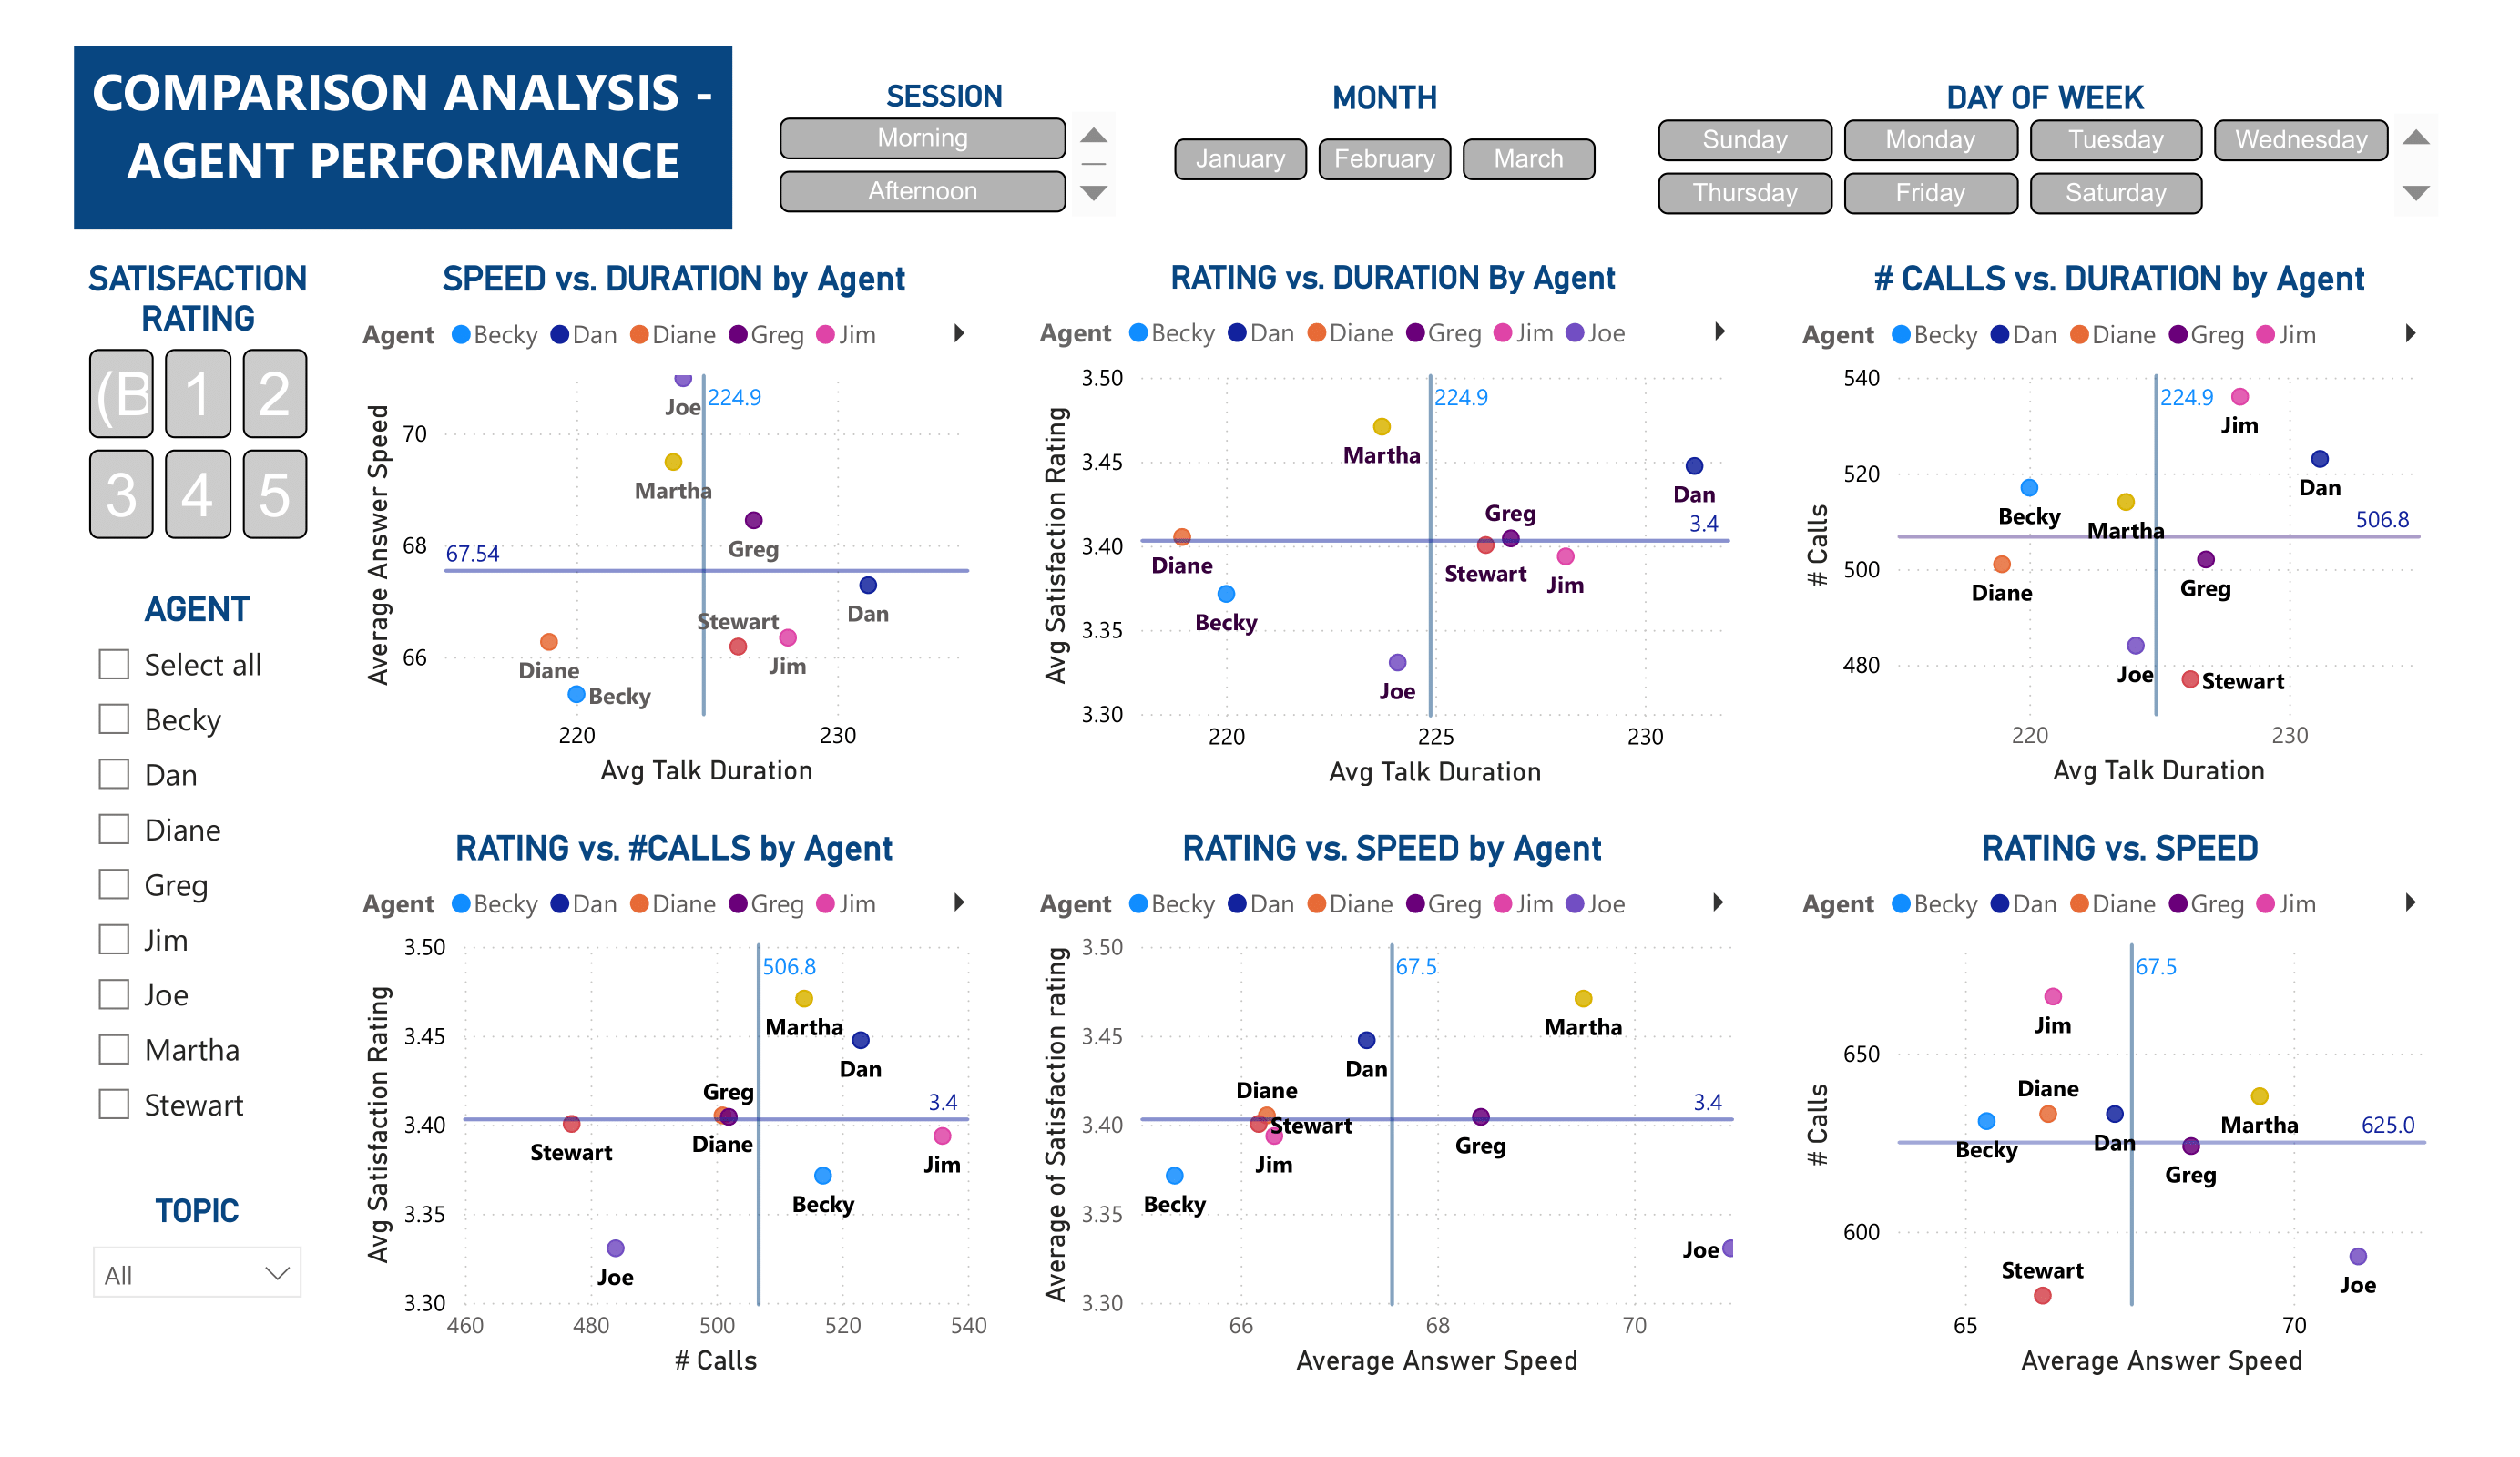

This screenshot's page, from the dashboard's own definition file:
{"tool":"powerbi","page":{"name":"Diagnostic Analysis_Scatter","canvas":[1280,720],"ordinal":5},"visuals":[{"type":"scatterChart","title":"SPEED vs. DURATION by Agent","fields":{"X":["Avg(Callcenter.Talk Duration in Seconds)"],"Y":["Avg(Callcenter.Speed of answer in seconds)"],"Series":["Callcenter.Agent"]},"box":[162,112.1,339.2,283.2],"z":0},{"type":"scatterChart","title":"RATING vs. SPEED by Agent","fields":{"Y":["Avg(Callcenter.Satisfaction rating)"],"X":["Avg(Callcenter.Speed of answer in seconds)"],"Series":["Callcenter.Agent"]},"box":[519.4,411.9,381.6,293.8],"z":1000},{"type":"scatterChart","title":"# CALLS vs. DURATION by Agent","fields":{"Series":["Callcenter.Agent"],"Y":["CountNonNull(Callcenter.Call Id)"],"X":["Avg(Callcenter.Talk Duration in Seconds)"]},"box":[920.6,112.1,345.2,283.2],"z":2000},{"type":"scatterChart","title":"RATING vs. DURATION By Agent","fields":{"X":["Avg(Callcenter.Talk Duration in Seconds)"],"Series":["Callcenter.Agent"],"Y":["Avg(Callcenter.Satisfaction rating)"]},"box":[519.4,112.1,383.1,283.2],"z":3000},{"type":"scatterChart","title":"RATING vs. #CALLS by Agent","fields":{"Y":["Avg(Callcenter.Satisfaction rating)"],"X":["Callcenter.Call Id"],"Series":["Callcenter.Agent"]},"box":[162,411.9,339.2,293.8],"z":4000},{"type":"ChicletSlicer1448559807354","title":"MONTH","fields":{"Category":["Date.Month"]},"box":[586.9,16.8,238.1,80.5],"z":5000},{"type":"slicer","title":"AGENT","fields":{"Values":["Callcenter.Agent"]},"box":[15.1,286.2,130.2,301.3],"z":6000},{"type":"slicer","title":"TOPIC","fields":{"Values":["Callcenter.Topic"]},"box":[15.1,604.2,130.2,101.5],"z":7000},{"type":"ChicletSlicer1448559807354","title":"SATISFACTION RATING","fields":{"Category":["Callcenter.Satisfaction rating"]},"box":[15.1,112.4,130.8,162.7],"z":8000},{"type":"textbox","box":[15.1,0,347.1,97.3],"z":9000},{"type":"ChicletSlicer1448559807354","title":"DAY OF WEEK","fields":{"Category":["Date.DayofWeek"]},"box":[841.8,16.8,424.2,80.5],"z":10000},{"type":"ChicletSlicer1448559807354","title":"SESSION","fields":{"Category":["Callcenter.Shift"]},"box":[378.7,16.9,190,80.2],"z":11000},{"type":"scatterChart","title":"RATING vs. SPEED","fields":{"X":["Avg(Callcenter.Speed of answer in seconds)"],"Series":["Callcenter.Agent"],"Y":["CountNonNull(Callcenter.Call Id)"]},"box":[920.6,411.9,345.2,293.8],"z":12000}]}

Visuals, with their boxes on the page's 1280x720 design canvas (x1, y1, x2, y2). These are canvas units, not pixel positions in the 2520x1457 screenshot, which may show the page scaled, cropped or inside an application window:
"SPEED vs. DURATION by Agent" scatterChart: <box>162,112,501,395</box>
"RATING vs. SPEED by Agent" scatterChart: <box>519,412,901,706</box>
"# CALLS vs. DURATION by Agent" scatterChart: <box>921,112,1266,395</box>
"RATING vs. DURATION By Agent" scatterChart: <box>519,112,902,395</box>
"RATING vs. #CALLS by Agent" scatterChart: <box>162,412,501,706</box>
"MONTH" ChicletSlicer1448559807354: <box>587,17,825,97</box>
"AGENT" slicer: <box>15,286,145,588</box>
"TOPIC" slicer: <box>15,604,145,706</box>
"SATISFACTION RATING" ChicletSlicer1448559807354: <box>15,112,146,275</box>
textbox: <box>15,0,362,97</box>
"DAY OF WEEK" ChicletSlicer1448559807354: <box>842,17,1266,97</box>
"SESSION" ChicletSlicer1448559807354: <box>379,17,569,97</box>
"RATING vs. SPEED" scatterChart: <box>921,412,1266,706</box>
